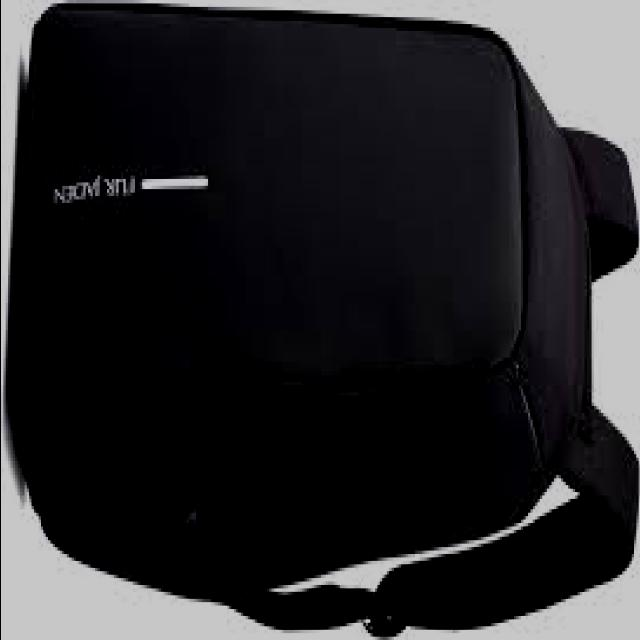backpack: (11, 2, 640, 638)
